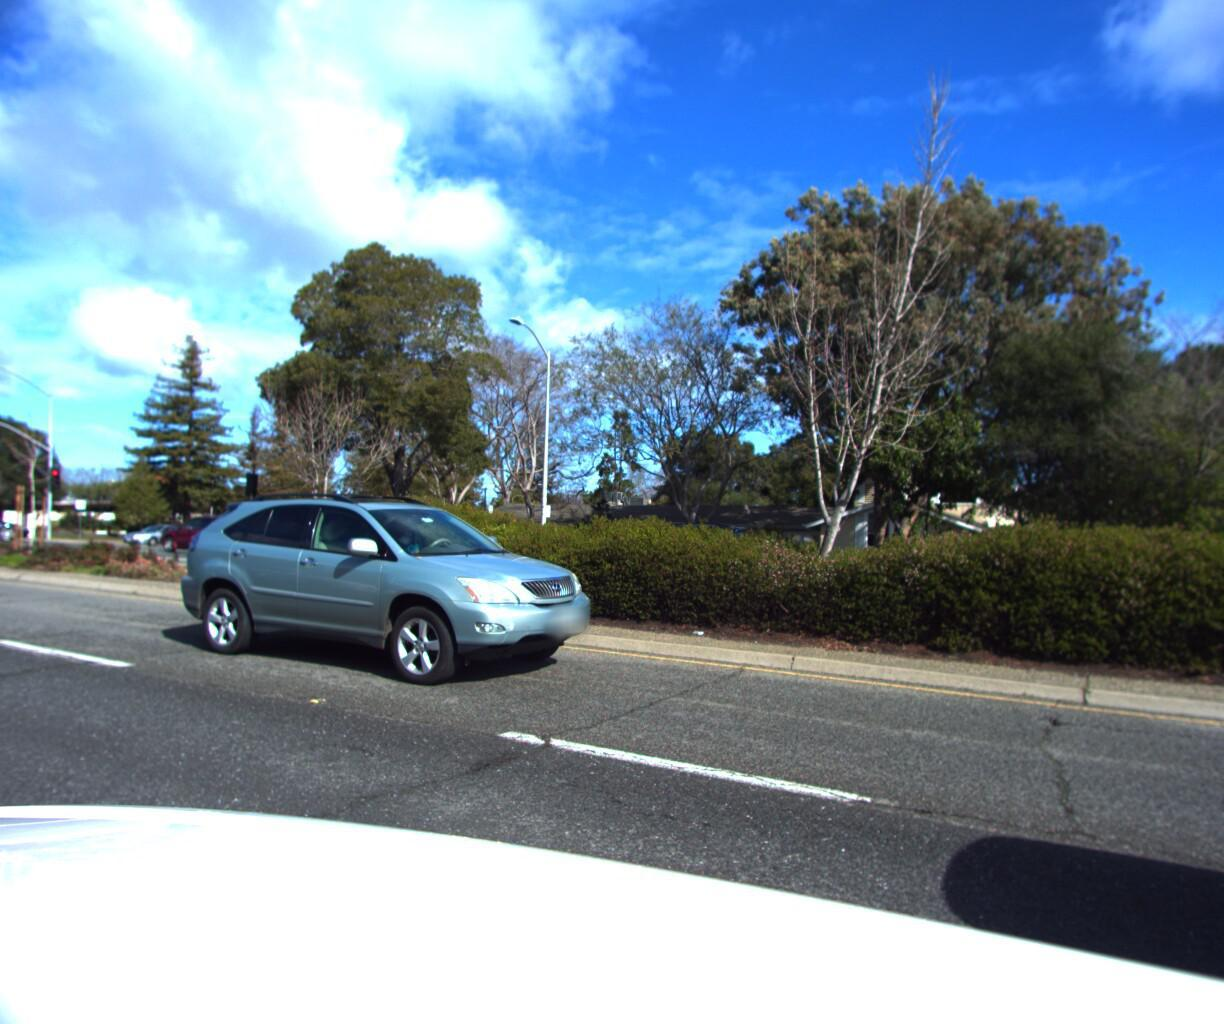car: (170, 487, 623, 694), (558, 513, 763, 603), (177, 515, 304, 564), (150, 515, 262, 558), (121, 529, 205, 557)
